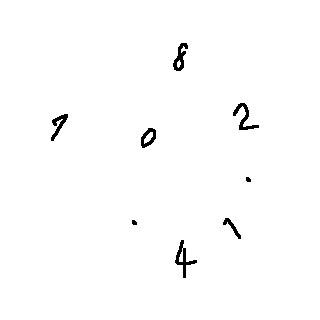.: (122, 212, 145, 232), (236, 171, 258, 187)
0: (136, 120, 163, 155)
1: (220, 208, 255, 264)
2: (230, 95, 271, 150)
4: (171, 234, 206, 287)
7: (35, 107, 74, 151)
8: (170, 35, 192, 81)
